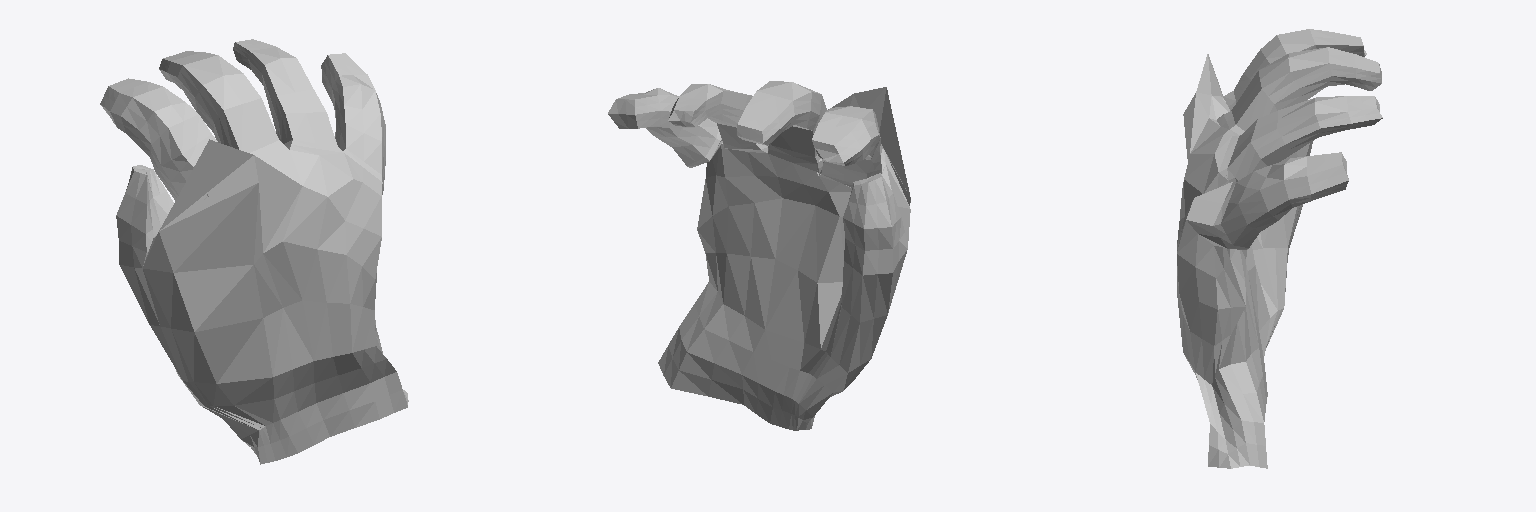
File: hand_sub2_triang0037.obj
The picture shows the model from 3 angles: view 1: azimuth 30°, elevation 25°; view 2: azimuth 150°, elevation 25°; view 3: azimuth 270°, elevation 25°; orthographic projection.
Parts seen in each view (by area): view 1: Hand; view 2: Hand; view 3: Hand.
Boxes of the visible parts, x1,y1,x2,y2 form: Hand: [100, 39, 408, 464]; Hand: [608, 81, 910, 430]; Hand: [1177, 29, 1382, 468].
Bounding box in the file's own units: 2.89 × 3.9 × 1.96.